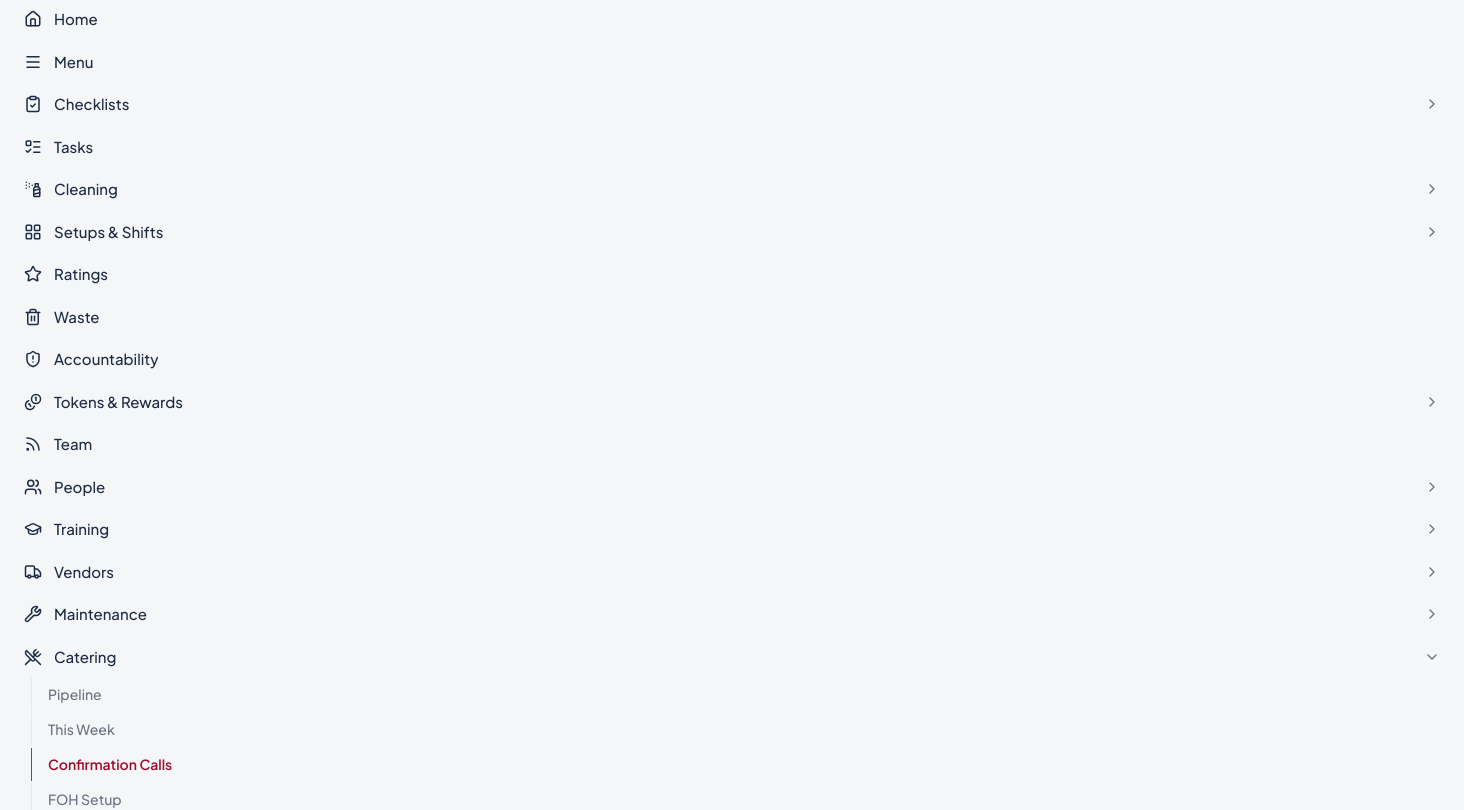
NavLinks expanded › lets the user close the section they are currently in
Click the button "Catering".
click(85, 656)  # box 12,638 -> 1452,676
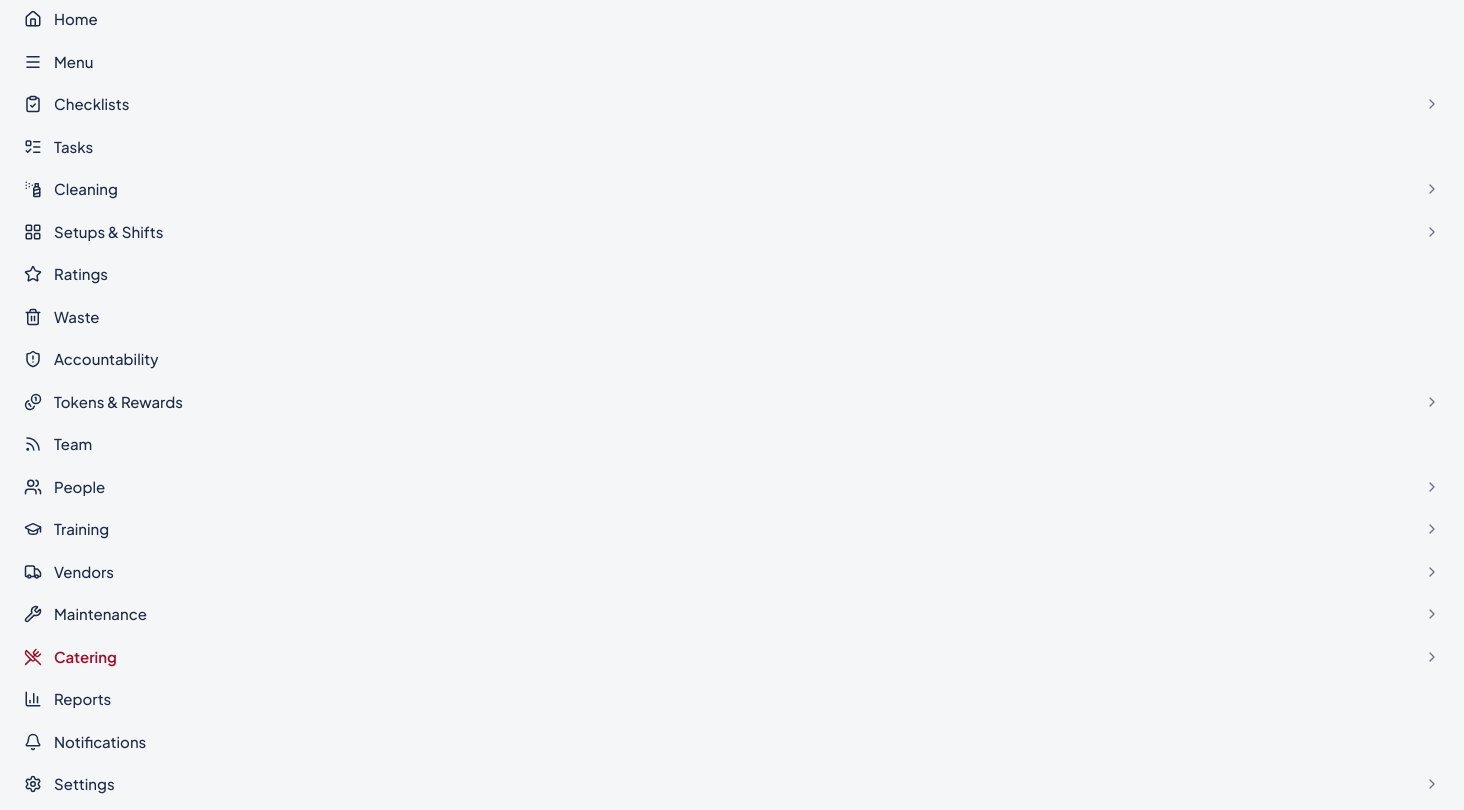
Expected: the button "Catering" is collapsed, 12,638 -> 1452,676
Expected: the link "Confirmation Calls" is gone
